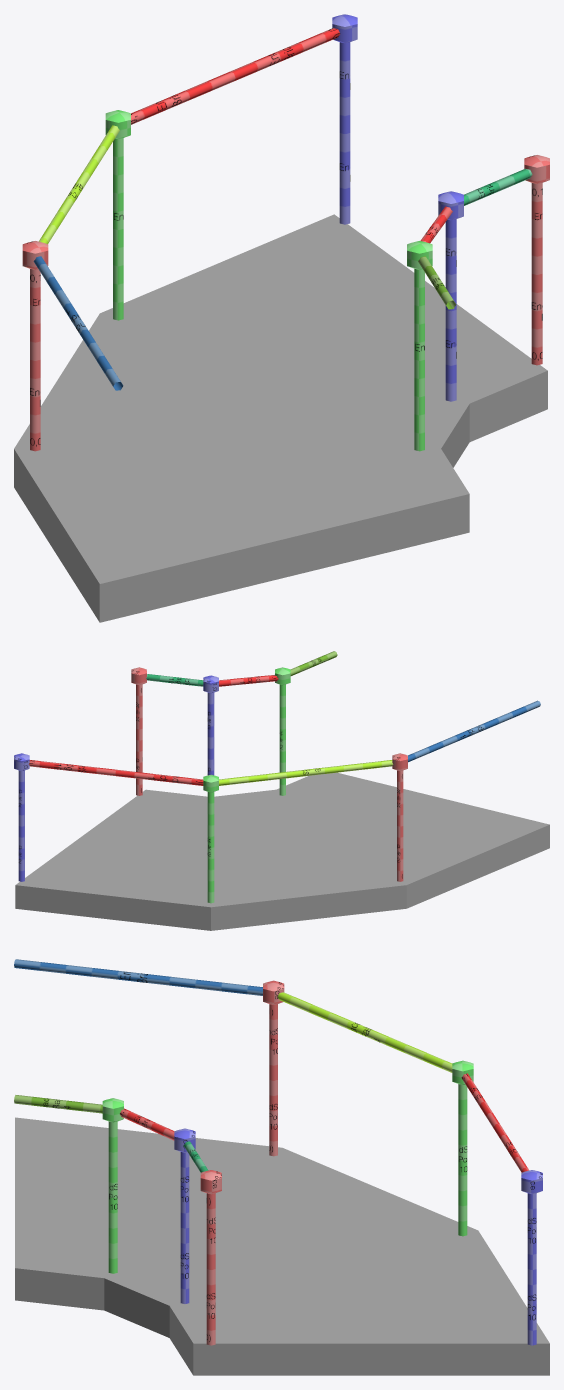
Rendered from bridge_round_right.fbx.
3 renders of one model, top to bottom at view 1: azimuth 30°, elevation 25°; view 2: azimuth 150°, elevation 25°; view 3: azimuth 270°, elevation 25°, orthographic. The views are drawn at different scales.
Parts seen in each view (by area): view 1: bridge_round_right_floor, bridge_round_right; view 2: bridge_round_right_floor, bridge_round_right; view 3: bridge_round_right_floor, bridge_round_right.
Part boxes in pixels (x1,y1,x2,y2): bridge_round_right_floor: [14, 214, 547, 622]; bridge_round_right: [22, 14, 549, 451]; bridge_round_right_floor: [15, 772, 549, 930]; bridge_round_right: [14, 651, 540, 903]; bridge_round_right_floor: [15, 1117, 549, 1375]; bridge_round_right: [14, 959, 542, 1345].
Size of the model in its own units: 307 by 126 by 301.
